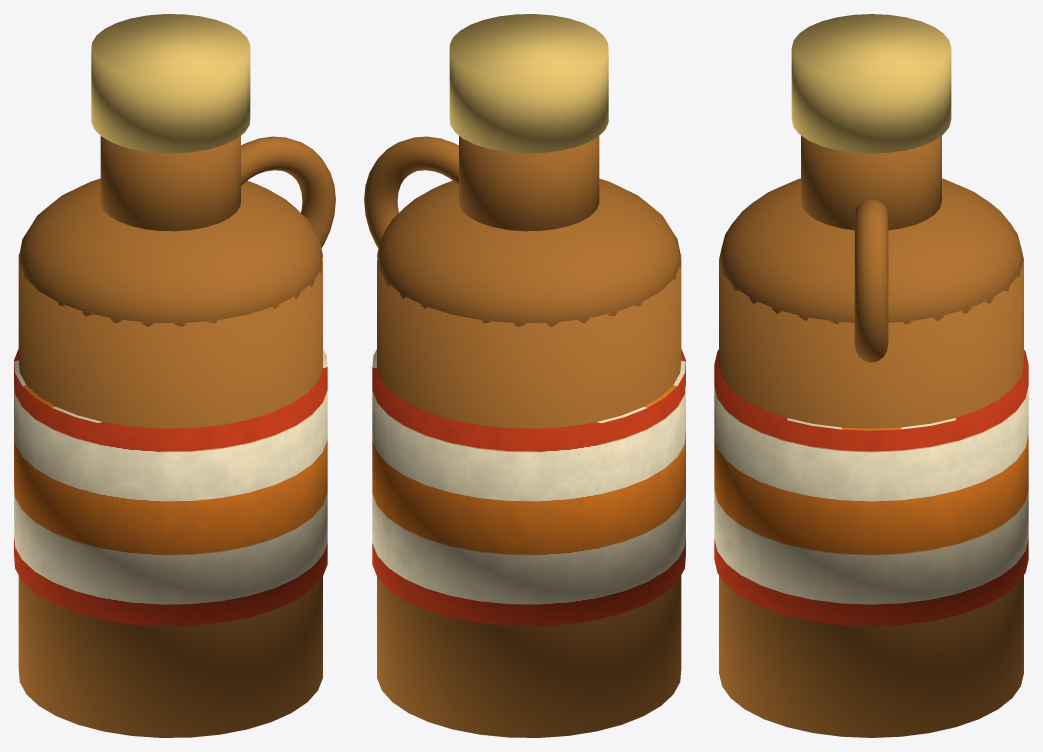
The model's file is syrup_bottle.glb.
3 renders of one model, left to right at view 1: azimuth 30°, elevation 25°; view 2: azimuth 150°, elevation 25°; view 3: azimuth 270°, elevation 25°, orthographic.
Visible parts, largest first — view 1: Cylinder, Cylinder.003, Sphere, Cylinder.002, Cylinder.001, Torus; view 2: Cylinder, Cylinder.003, Sphere, Cylinder.002, Cylinder.001, Torus; view 3: Cylinder, Cylinder.003, Sphere, Cylinder.002, Cylinder.001, Torus.
Boxes of the visible parts, left/top/right/bottom form: Cylinder: left=18, top=252, right=322, bottom=737; Cylinder.003: left=14, top=349, right=327, bottom=626; Sphere: left=19, top=178, right=322, bottom=326; Cylinder.002: left=91, top=14, right=250, bottom=153; Cylinder.001: left=100, top=136, right=240, bottom=231; Torus: left=241, top=136, right=335, bottom=247; Cylinder: left=377, top=252, right=681, bottom=737; Cylinder.003: left=372, top=349, right=685, bottom=626; Sphere: left=377, top=178, right=680, bottom=326; Cylinder.002: left=449, top=14, right=608, bottom=153; Cylinder.001: left=459, top=136, right=599, bottom=231; Torus: left=364, top=136, right=458, bottom=247; Cylinder: left=719, top=257, right=1023, bottom=737; Cylinder.003: left=714, top=349, right=1028, bottom=626; Sphere: left=719, top=178, right=1023, bottom=324; Cylinder.002: left=791, top=14, right=951, bottom=153; Cylinder.001: left=801, top=135, right=941, bottom=230; Torus: left=854, top=199, right=888, bottom=362.
Bounding box in the file's own units: 1.47 × 2.94 × 1.34.
Materials: 3 (1 with a texture image).
